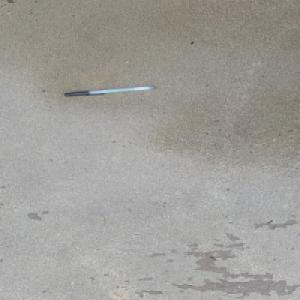Pen: (62, 84, 156, 97)
